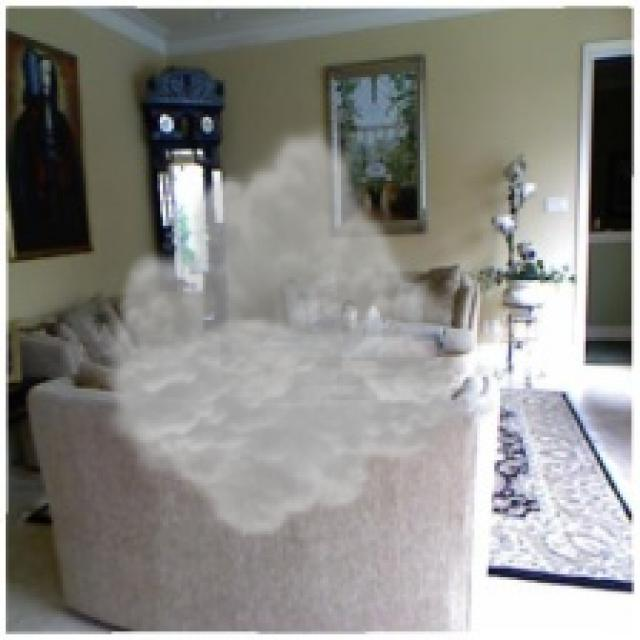smoke: (97, 123, 466, 543)
